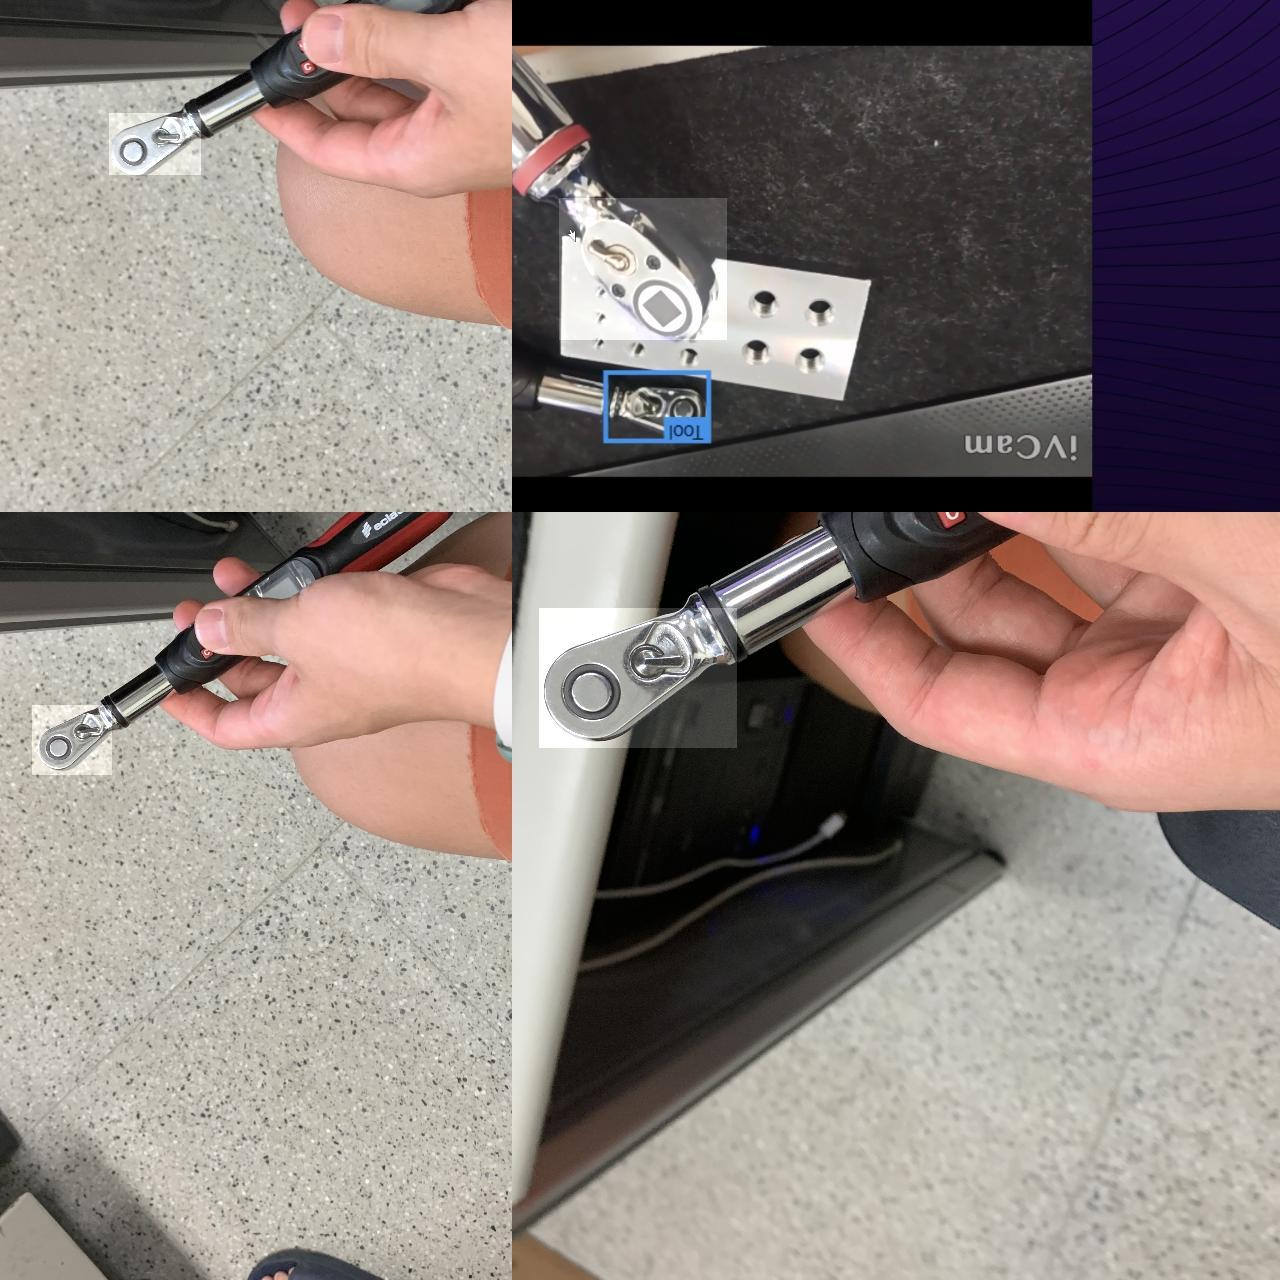Tool: (539, 608, 737, 748), (559, 198, 727, 340), (32, 704, 113, 775), (109, 113, 200, 175)
hole: (796, 294, 840, 336), (784, 341, 828, 383), (730, 334, 771, 376), (737, 288, 781, 327), (681, 346, 703, 372), (628, 341, 647, 366), (593, 339, 615, 352), (591, 312, 606, 326), (594, 285, 607, 299)
